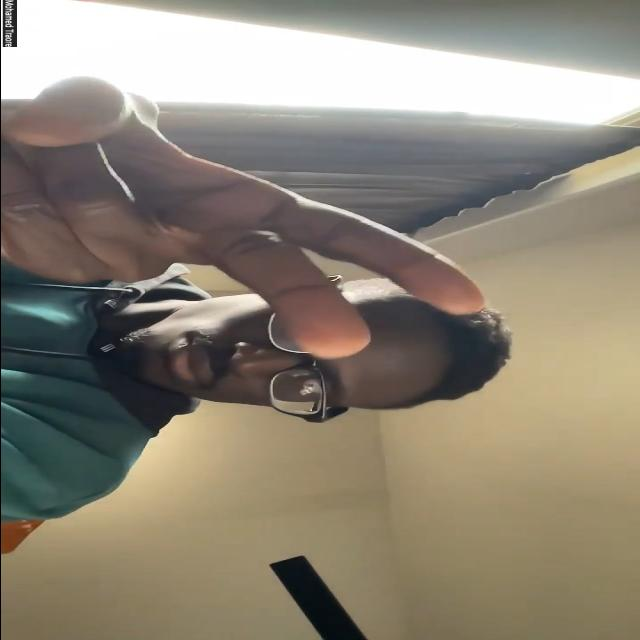Scissors: (0, 71, 485, 359)
